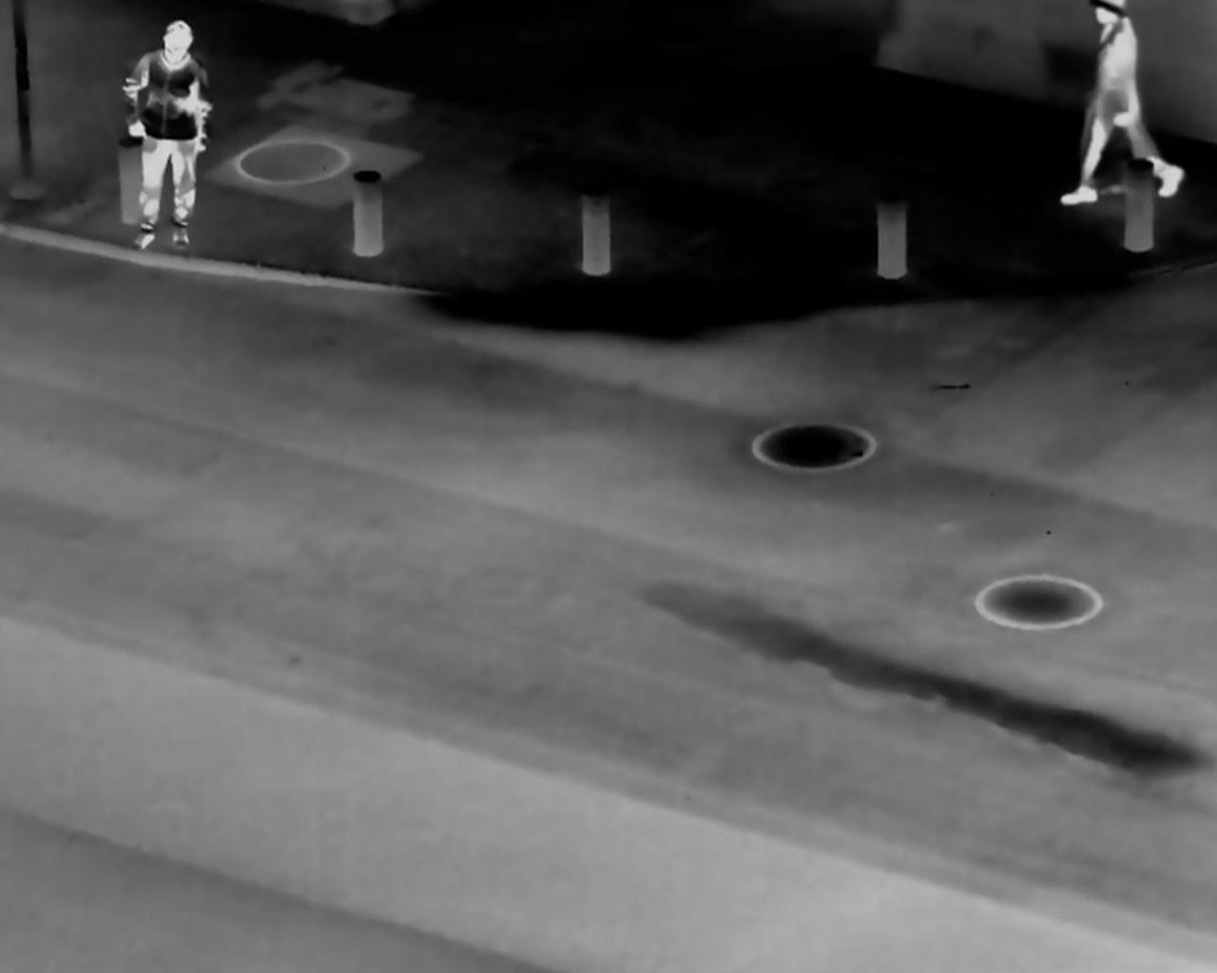person: (126, 17, 208, 256)
